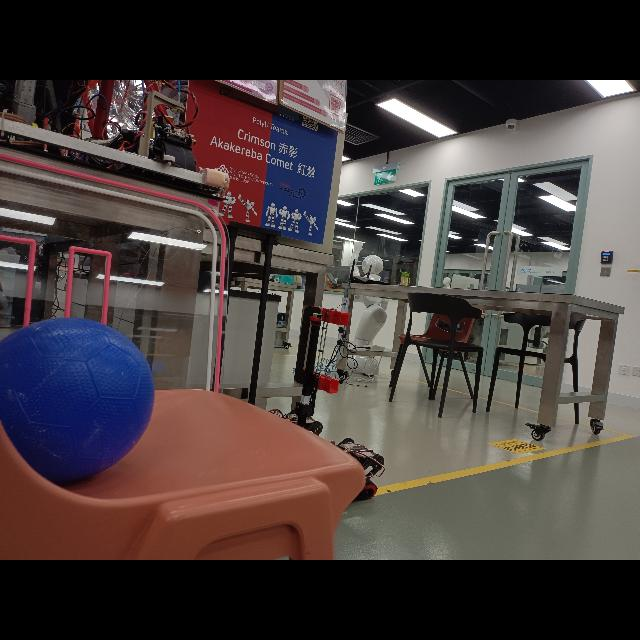B: (0, 317, 156, 491)
